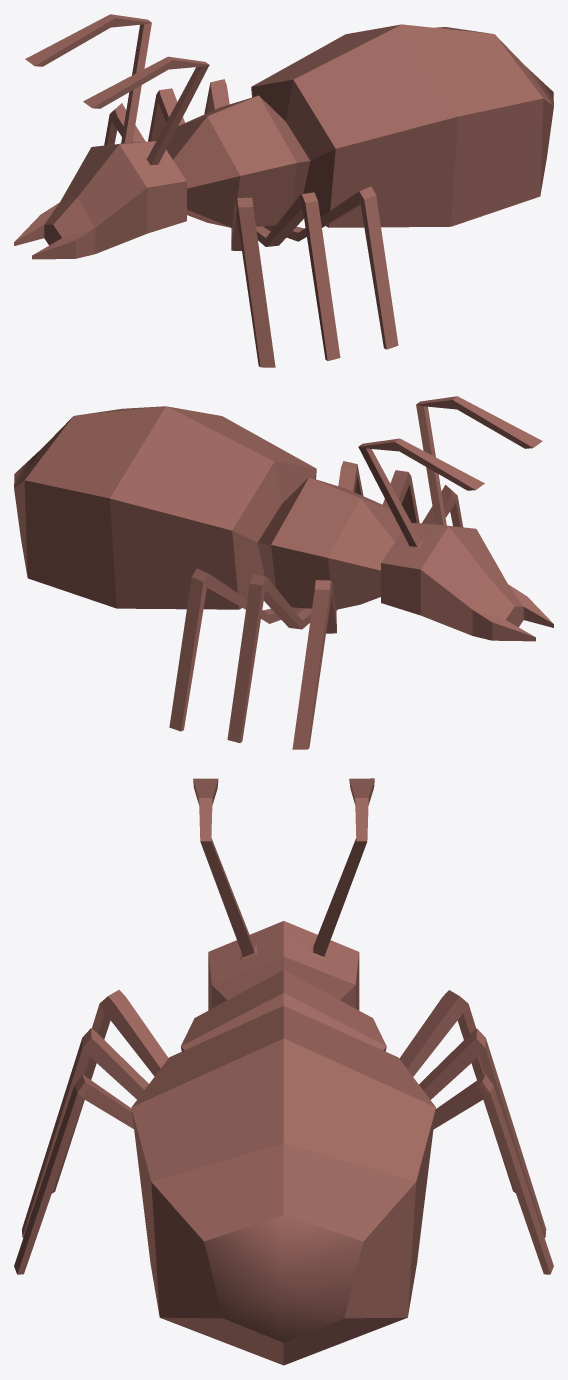
File: ant.fbx
3 views of the same model, one above another, from view 1: azimuth 30°, elevation 25°; view 2: azimuth 150°, elevation 25°; view 3: azimuth 270°, elevation 25° (orthographic). The views are drawn at different scales.
Visible parts, largest first — view 1: ant1; view 2: ant1; view 3: ant1.
Boxes of the visible parts, bbox=[...] form: ant1: bbox=[14, 14, 553, 367]; ant1: bbox=[14, 396, 553, 749]; ant1: bbox=[14, 778, 553, 1365].
Bounding box in the file's own units: 1.71 × 0.8478 × 1.11.
